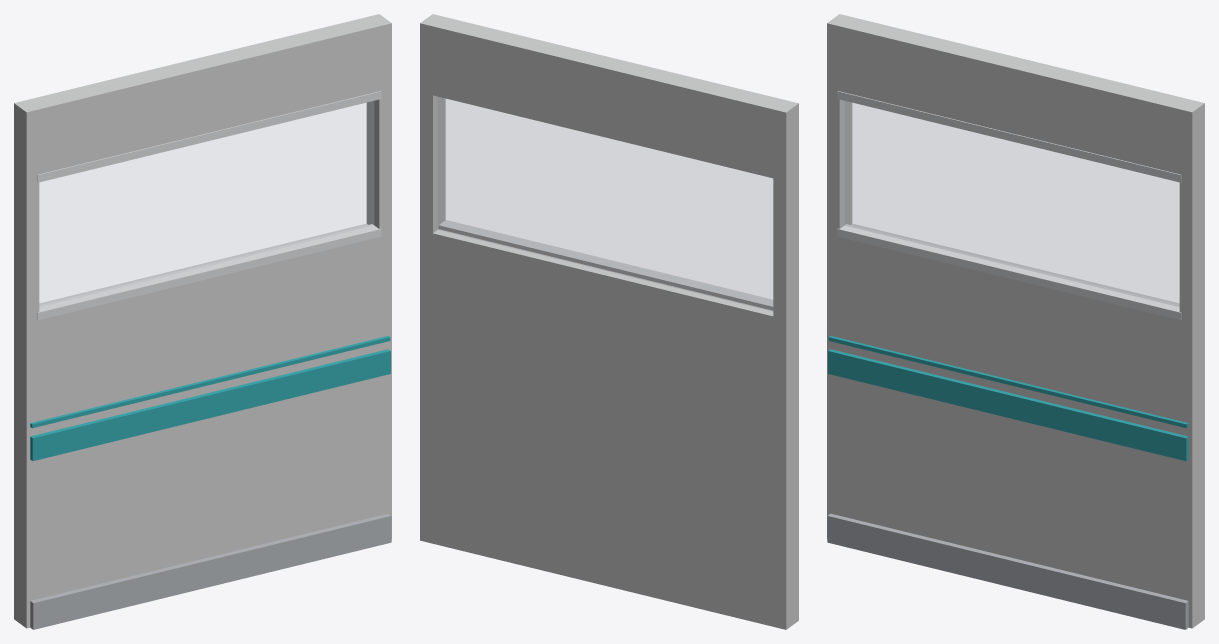
3 views of the same model, side by side, from view 1: azimuth 30°, elevation 25°; view 2: azimuth 150°, elevation 25°; view 3: azimuth 330°, elevation 25° (orthographic).
Visible parts, largest first — view 1: shop-wall-module; view 2: shop-wall-module; view 3: shop-wall-module.
Part boxes in pixels (<box>): shop-wall-module: <box>14,14,391,629</box>; shop-wall-module: <box>420,14,798,629</box>; shop-wall-module: <box>827,14,1204,629</box>.
Bounding box in the file's own units: 2 × 2.7 × 0.1499.
